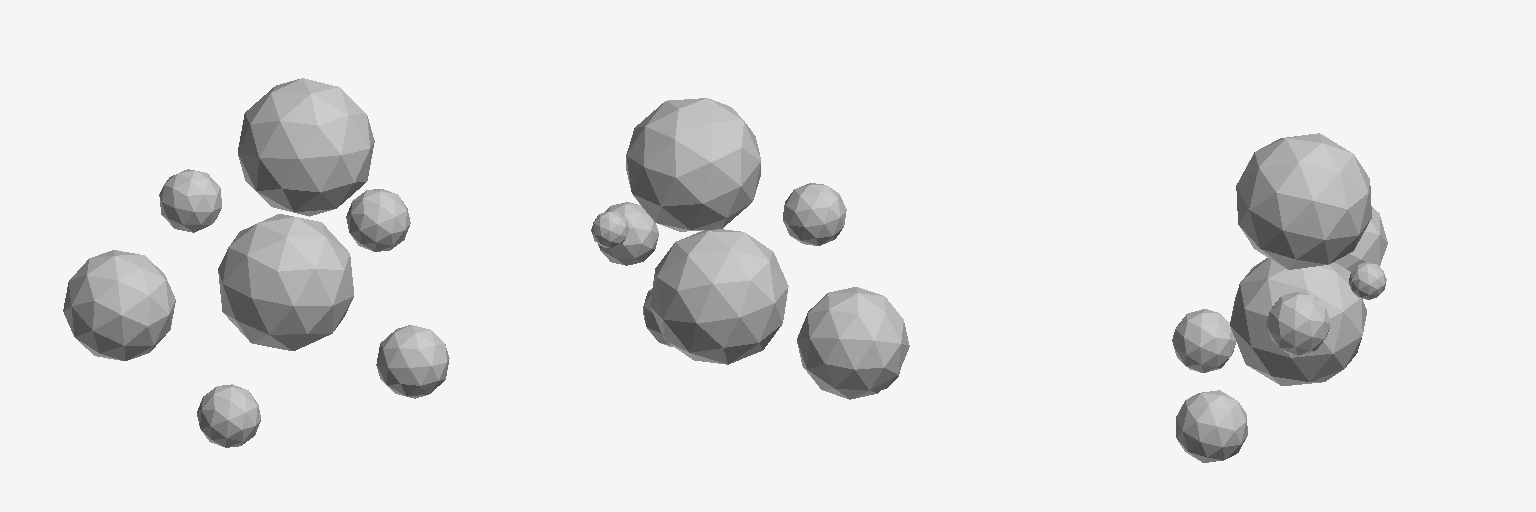
Rendered from shperes.obj.
3 renders of one model, left to right at view 1: azimuth 30°, elevation 25°; view 2: azimuth 150°, elevation 25°; view 3: azimuth 270°, elevation 25°, orthographic.
Visible parts, largest first — view 1: Cube.001; view 2: Cube.001; view 3: Cube.001.
Part boxes in pixels (bbox=[...]): Cube.001: bbox=[63, 78, 449, 447]; Cube.001: bbox=[591, 98, 909, 399]; Cube.001: bbox=[1172, 133, 1387, 462].
Bounding box in the file's own units: 818 × 719 × 482.